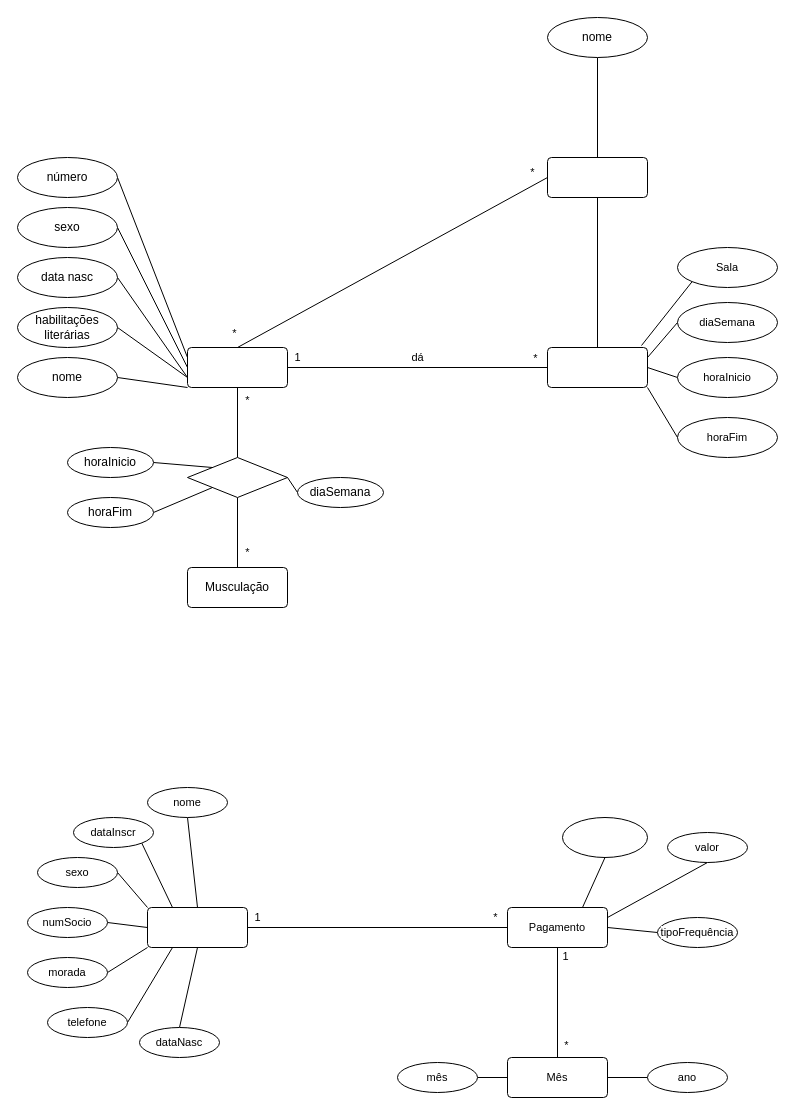
This 795x1115 diagram has some shape labels left out. Here are the shapes that lost their labels. From the top down, the centre of each, then its label:
At point (597, 177): "Modalidade".
At point (237, 367): "Professor".
At point (597, 367): "Aula".
At point (237, 477): "apoia".
At point (605, 837): "dataPagamento".
At point (197, 927): "Cliente".
